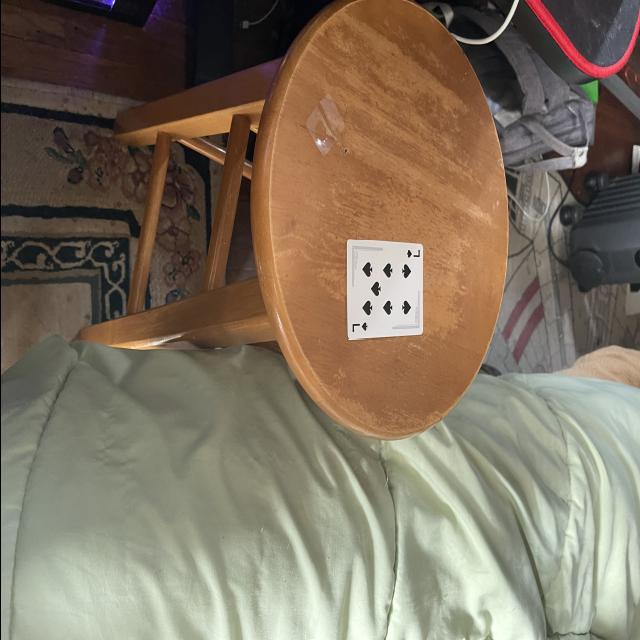7 of spades: (345, 240, 421, 339)
